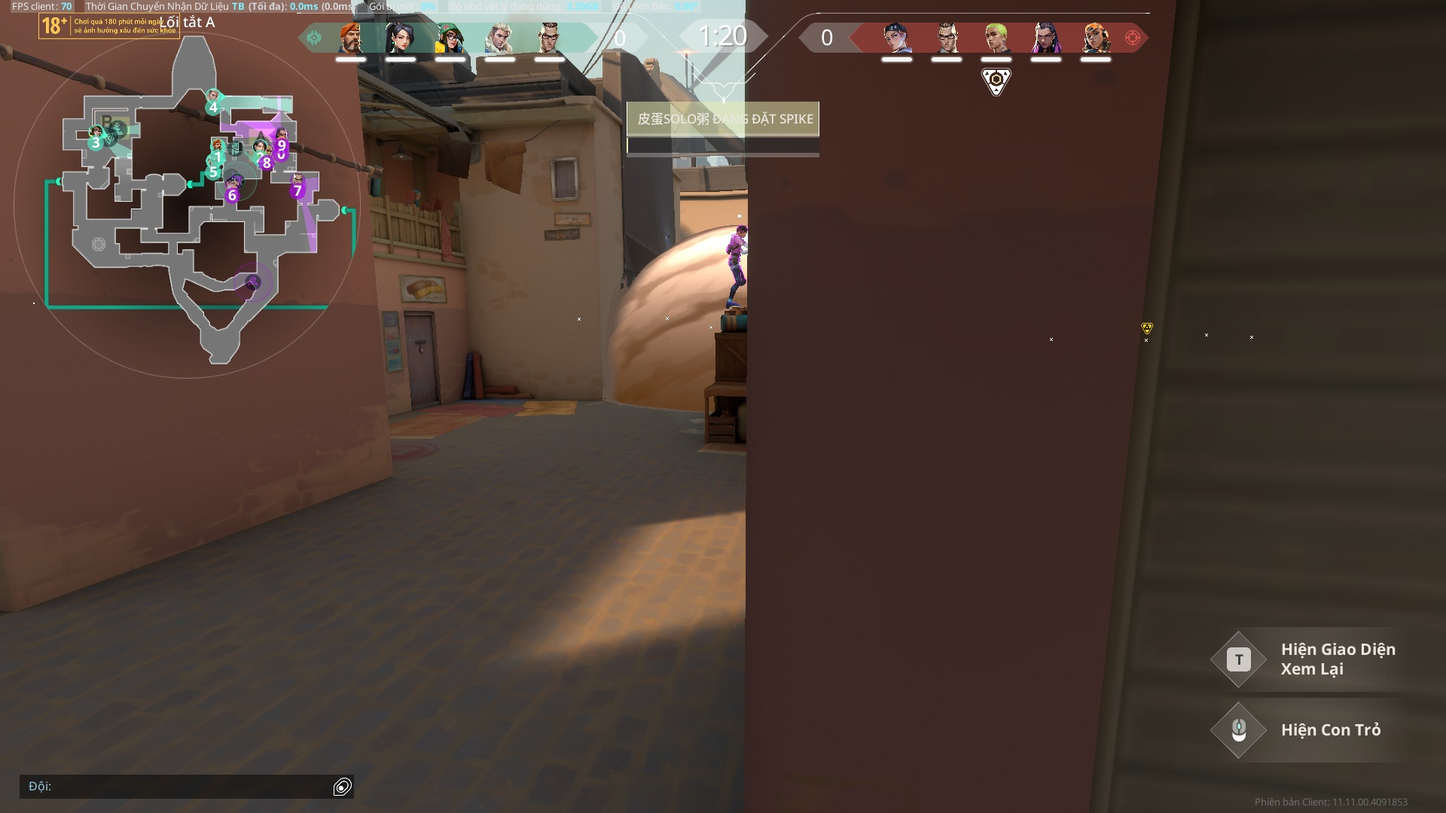body: (728, 233, 743, 257)
head: (735, 224, 746, 236)
